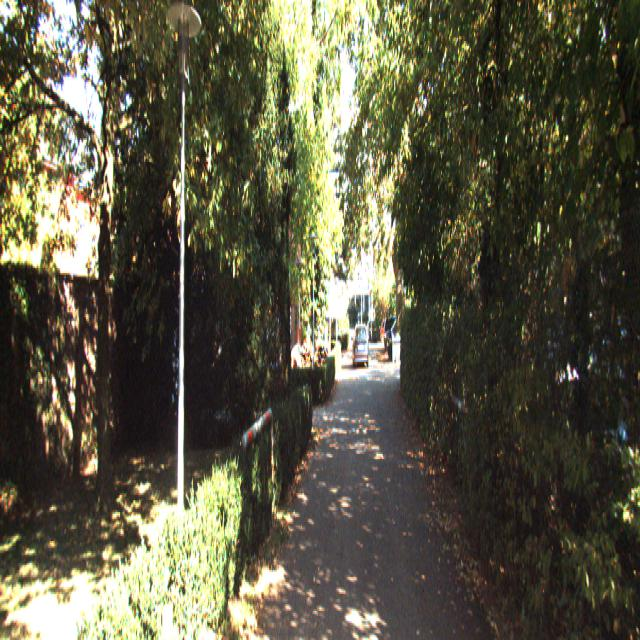Car: (353, 322, 369, 369)
